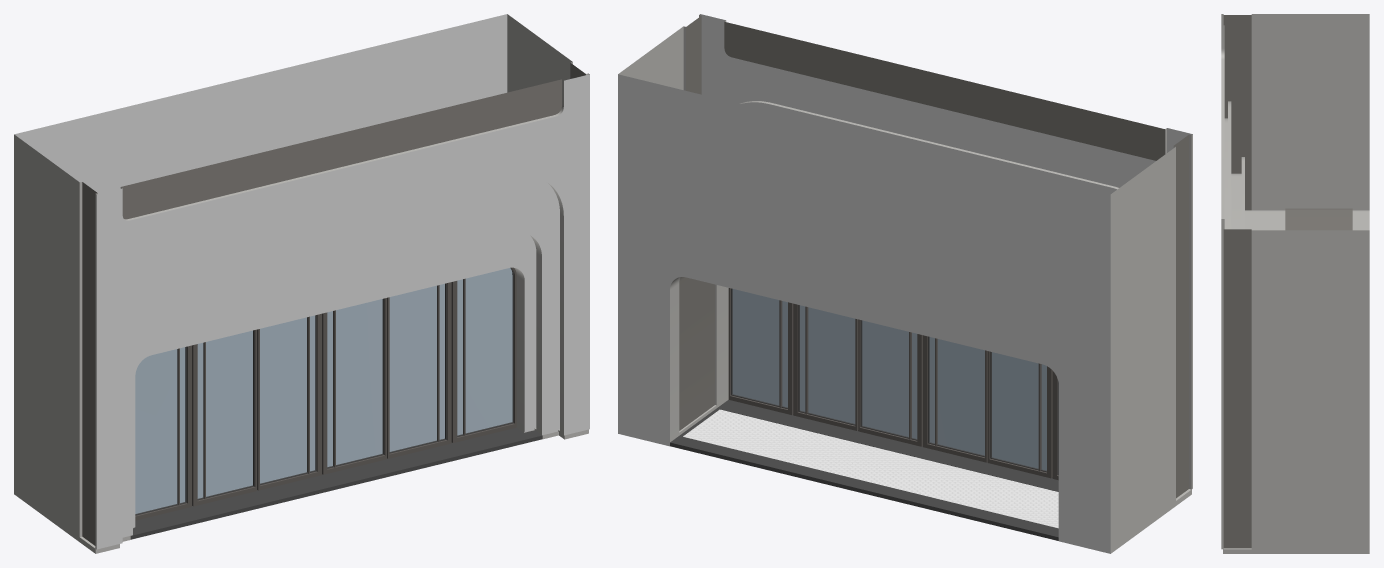
The model's file is MMo_W_001_DR_e_15x10.fbx.
3 views of the same model, side by side, from view 1: azimuth 30°, elevation 25°; view 2: azimuth 150°, elevation 25°; view 3: azimuth 270°, elevation 25° (orthographic). The views are drawn at different scales.
Visible parts, largest first — view 1: MMo_W_001_DR_e_15x10, MMo_W_001_DR_e_15x10_glass, MMo_W_001_DR_e_15x10_door; view 2: MMo_W_001_DR_e_15x10, MMo_W_001_DR_e_15x10_glass, MMo_W_001_DR_e_15x10_door; view 3: MMo_W_001_DR_e_15x10.
Part boxes in pixels (left/top/right/bottom): MMo_W_001_DR_e_15x10: left=14, top=14, right=589, bottom=553; MMo_W_001_DR_e_15x10_glass: left=135, top=268, right=512, bottom=513; MMo_W_001_DR_e_15x10_door: left=135, top=267, right=516, bottom=520; MMo_W_001_DR_e_15x10: left=618, top=14, right=1192, bottom=553; MMo_W_001_DR_e_15x10_glass: left=732, top=289, right=1046, bottom=470; MMo_W_001_DR_e_15x10_door: left=728, top=288, right=1058, bottom=480; MMo_W_001_DR_e_15x10: left=1221, top=14, right=1369, bottom=553.
Bounding box in the file's own units: 15.2 × 10.6 × 4.4.
